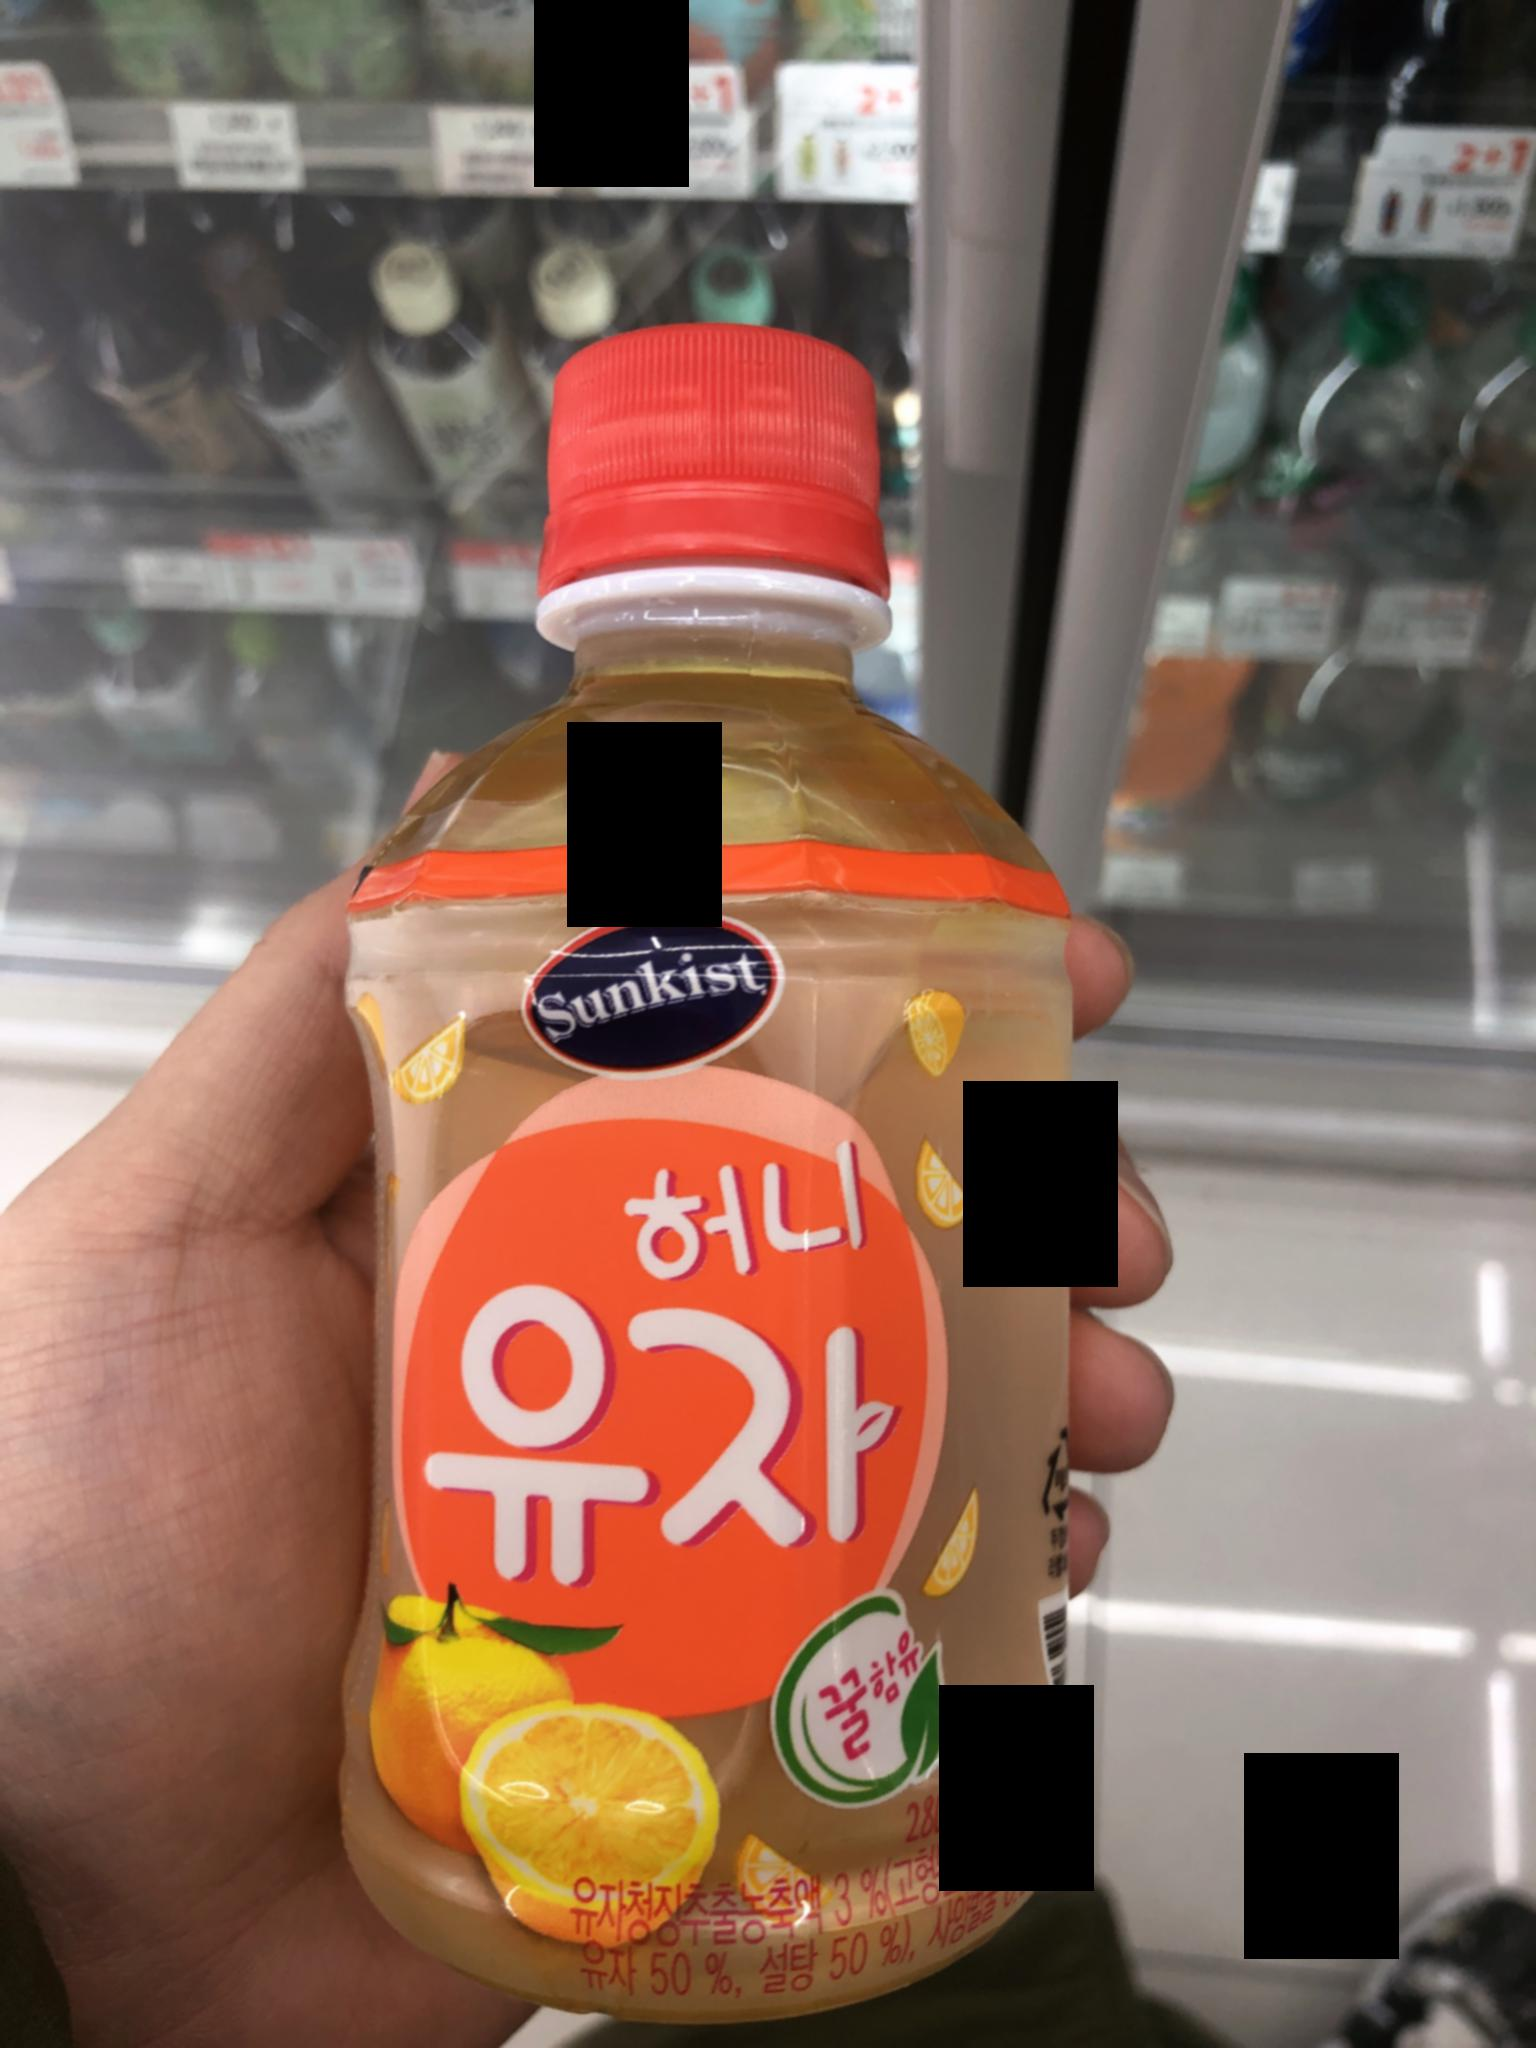honeyyuja: (216, 334, 1199, 2048)
